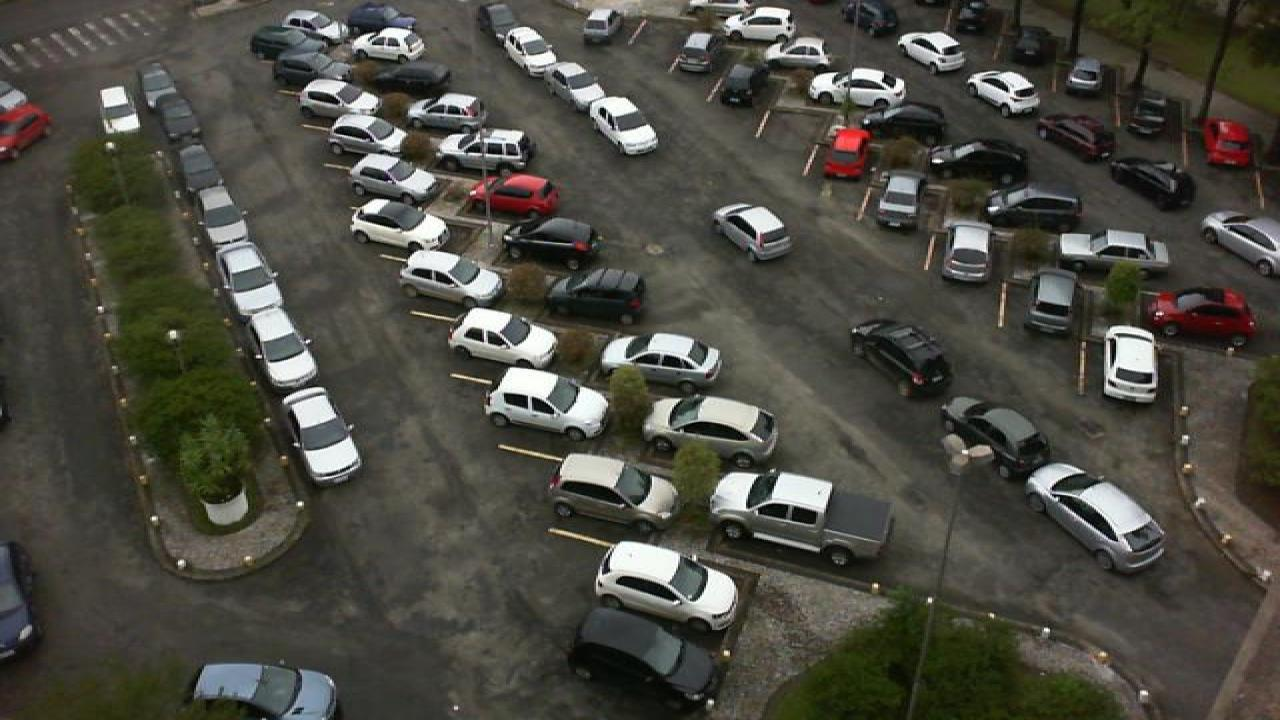Car: (708, 469, 892, 568), (566, 607, 724, 710), (1026, 461, 1168, 575), (594, 540, 740, 633), (548, 451, 680, 539), (640, 393, 780, 470), (940, 395, 1052, 481), (482, 368, 608, 441), (280, 386, 364, 487), (186, 664, 340, 719), (848, 316, 952, 397), (598, 332, 722, 397), (446, 307, 558, 376), (1144, 286, 1258, 345), (396, 248, 504, 307), (546, 266, 646, 328), (500, 216, 606, 272), (348, 196, 450, 254), (248, 310, 320, 390), (1200, 209, 1280, 277), (1056, 228, 1170, 272), (984, 183, 1086, 232), (1108, 156, 1198, 211), (710, 201, 792, 261), (226, 278, 292, 352), (1100, 324, 1160, 404), (348, 152, 444, 202), (928, 138, 1030, 185), (468, 173, 564, 222), (806, 68, 910, 112), (588, 93, 660, 156), (438, 128, 534, 174), (214, 243, 276, 311), (1024, 268, 1084, 335), (1032, 114, 1112, 164), (324, 112, 406, 160), (938, 218, 996, 285), (862, 102, 948, 144), (872, 170, 928, 233), (966, 71, 1042, 117), (364, 58, 454, 96), (408, 92, 486, 134), (0, 100, 52, 162), (552, 72, 612, 125), (296, 77, 366, 122), (820, 126, 876, 182), (1202, 115, 1258, 171), (352, 26, 428, 65), (270, 51, 342, 90), (196, 206, 252, 256), (898, 32, 966, 73), (1128, 86, 1178, 138), (720, 8, 796, 42), (520, 49, 576, 93), (182, 175, 234, 221), (250, 25, 318, 60), (98, 84, 144, 135), (500, 26, 552, 70), (348, 1, 414, 35), (168, 137, 220, 180), (764, 37, 832, 69), (1006, 23, 1056, 66), (842, 0, 900, 36), (140, 60, 188, 102), (280, 9, 342, 41), (718, 64, 762, 108), (1064, 55, 1108, 98), (158, 98, 202, 140), (674, 31, 718, 71), (478, 1, 524, 37), (910, 0, 956, 36), (578, 8, 622, 45)
